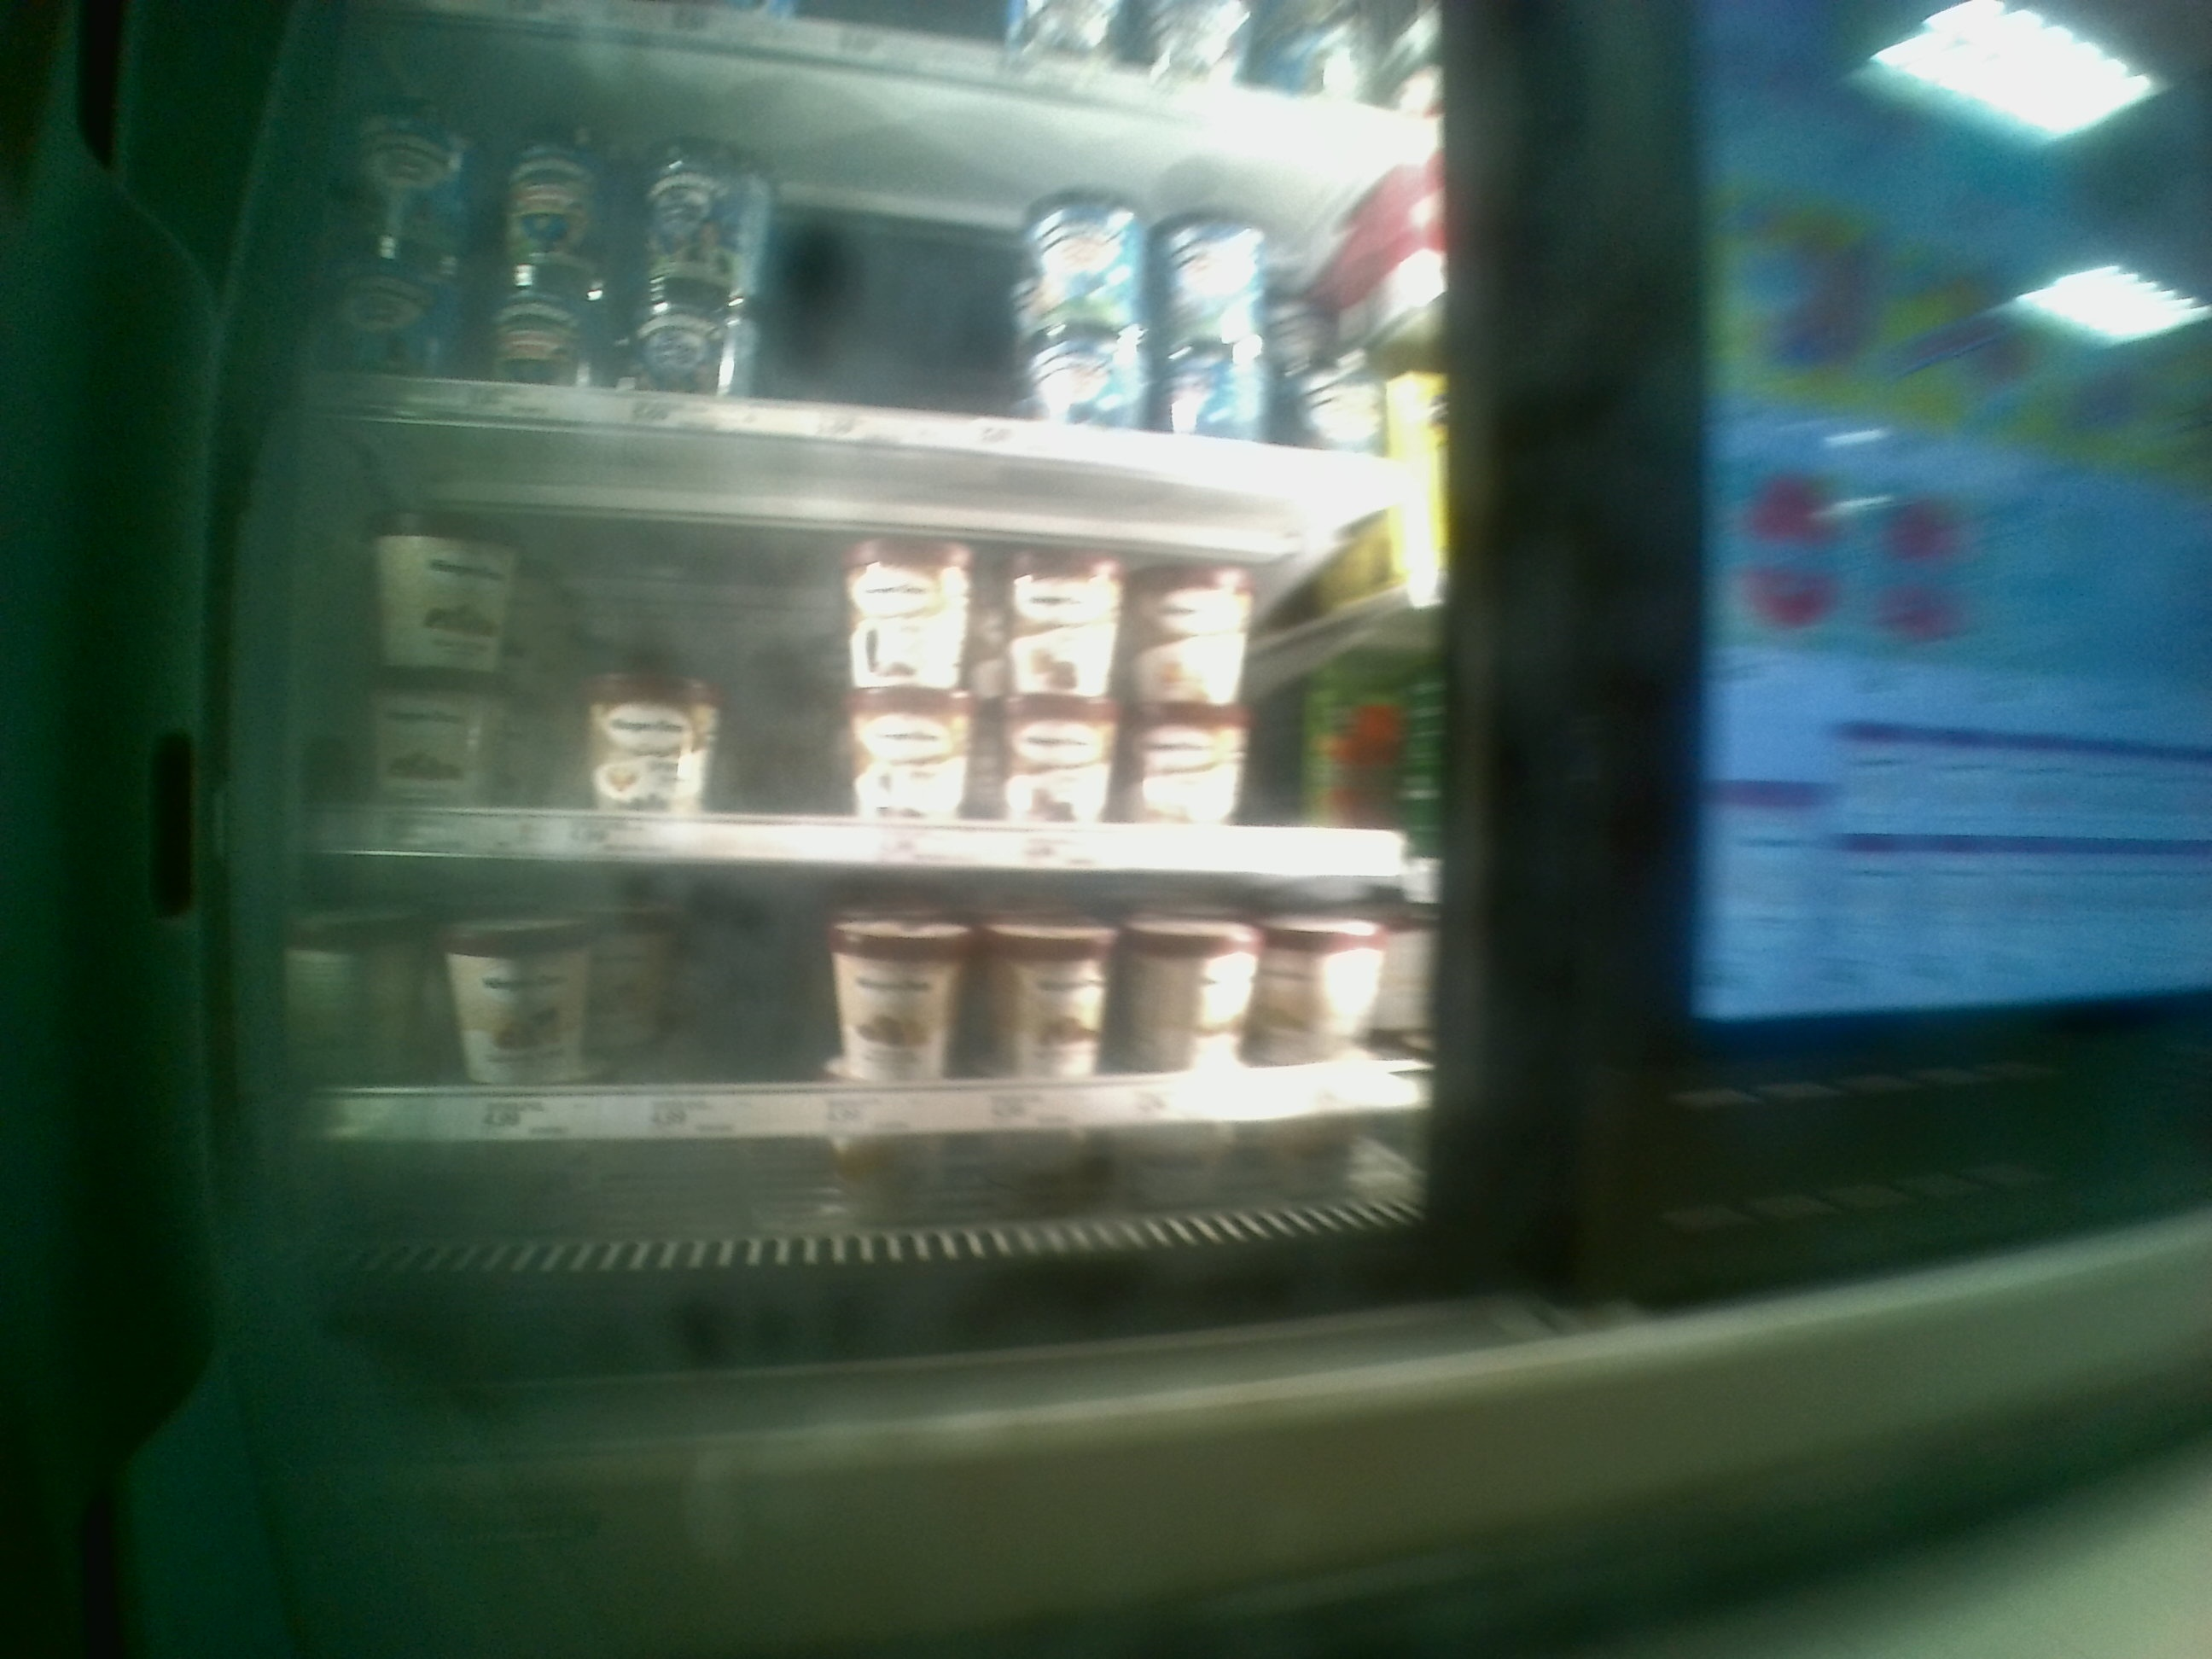shelf: (294, 410, 1435, 873), (294, 863, 1456, 1253)
